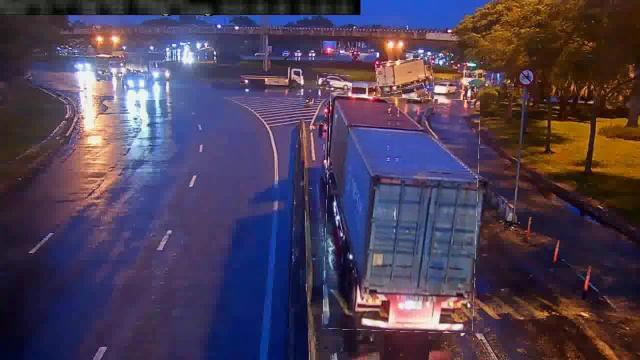Car: (316, 74, 352, 90), (402, 84, 426, 100), (434, 82, 456, 92)
Truck: (325, 96, 479, 332), (376, 58, 434, 92)
